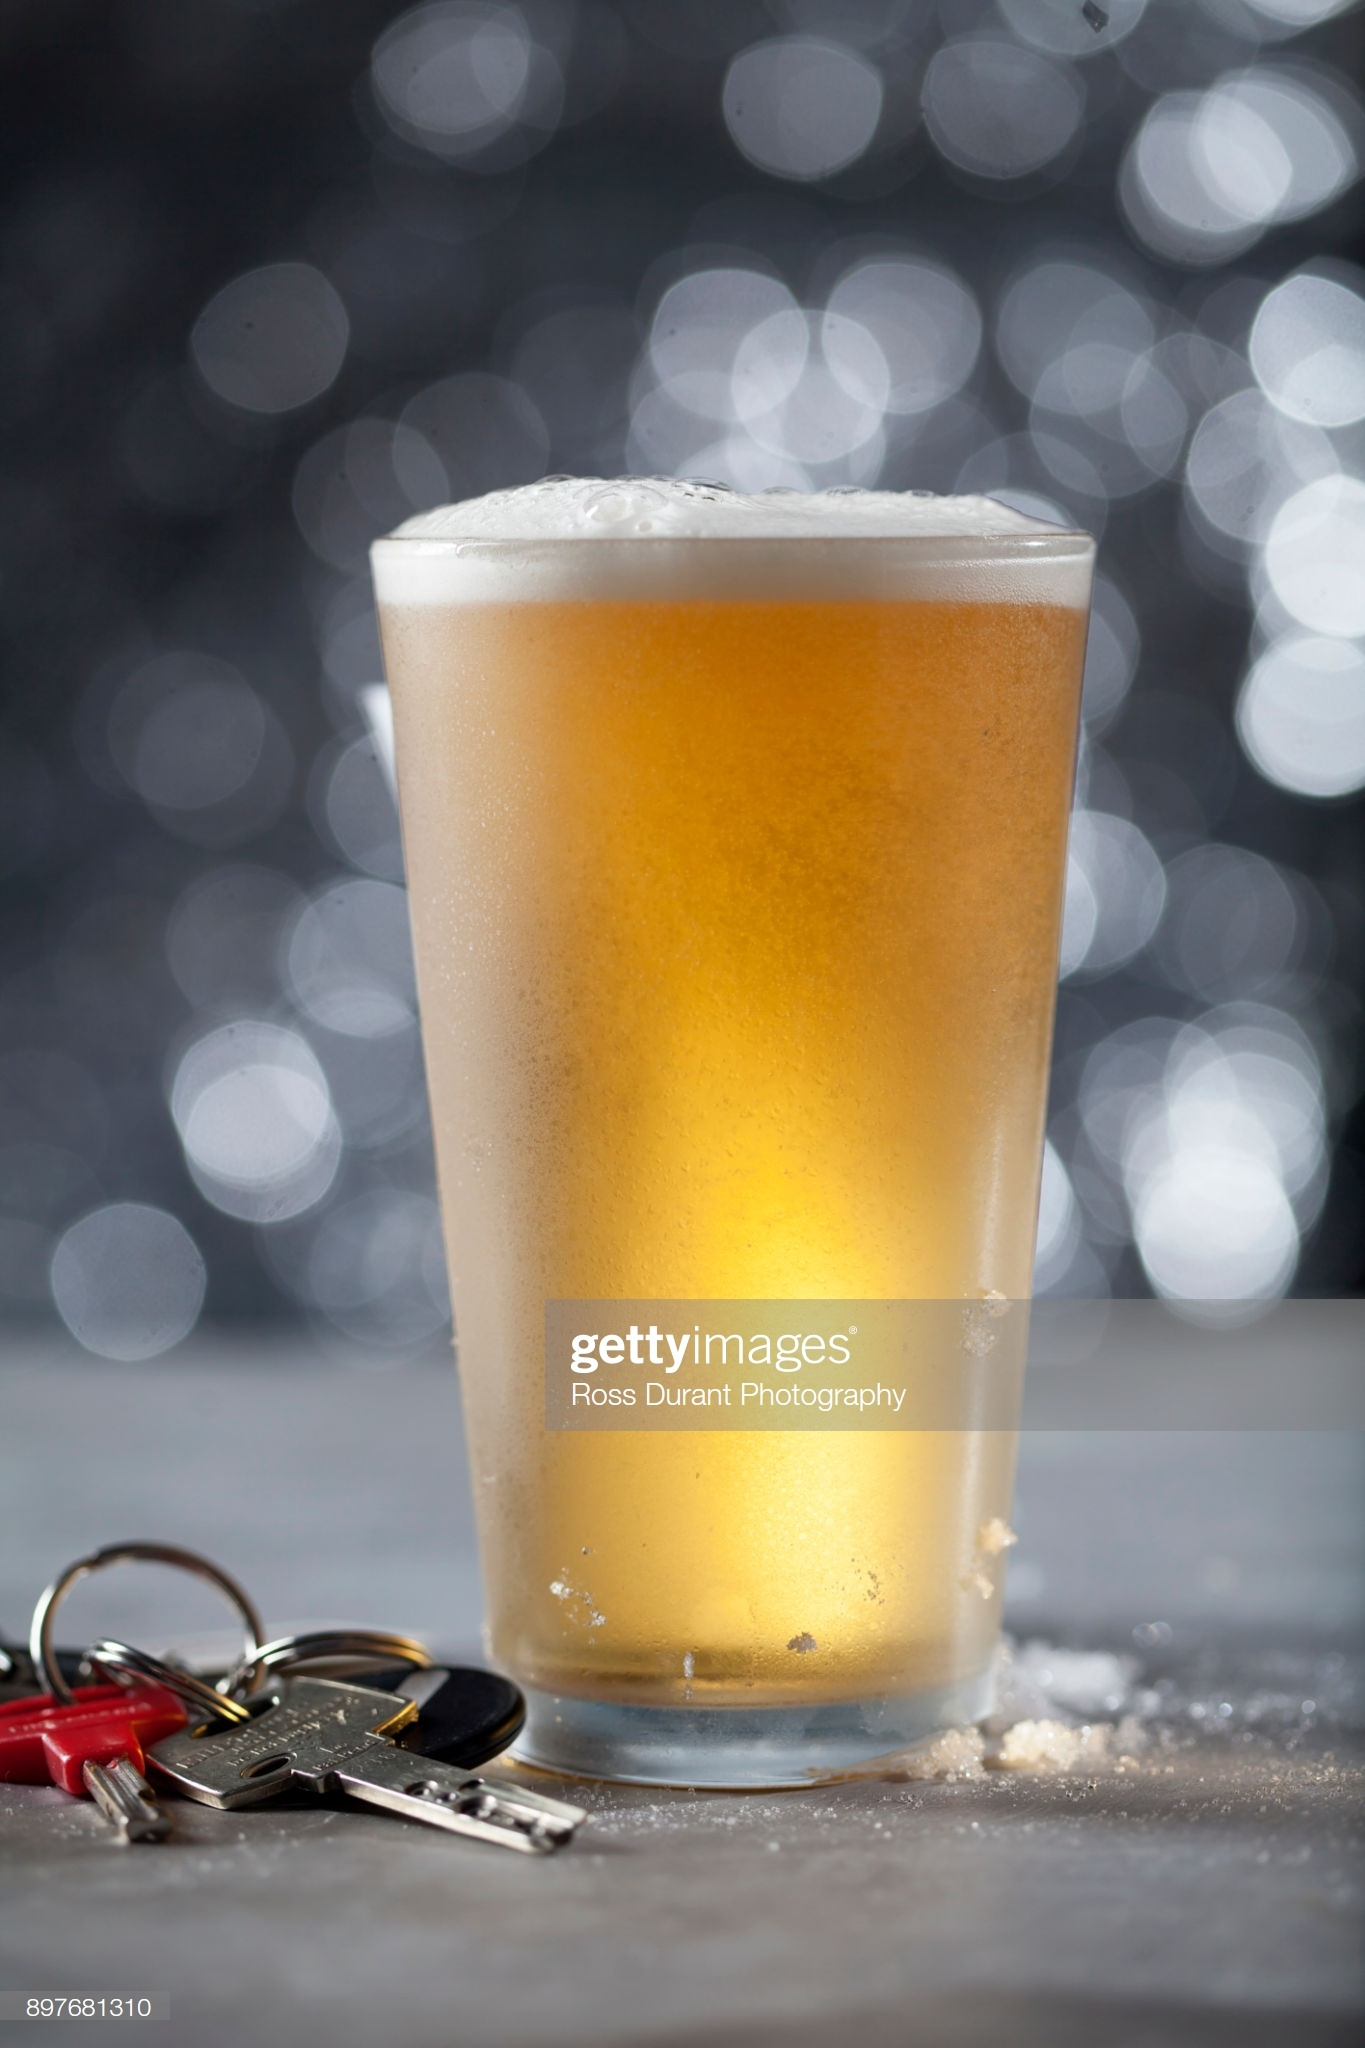glassBeer: (440, 504, 1098, 1766)
